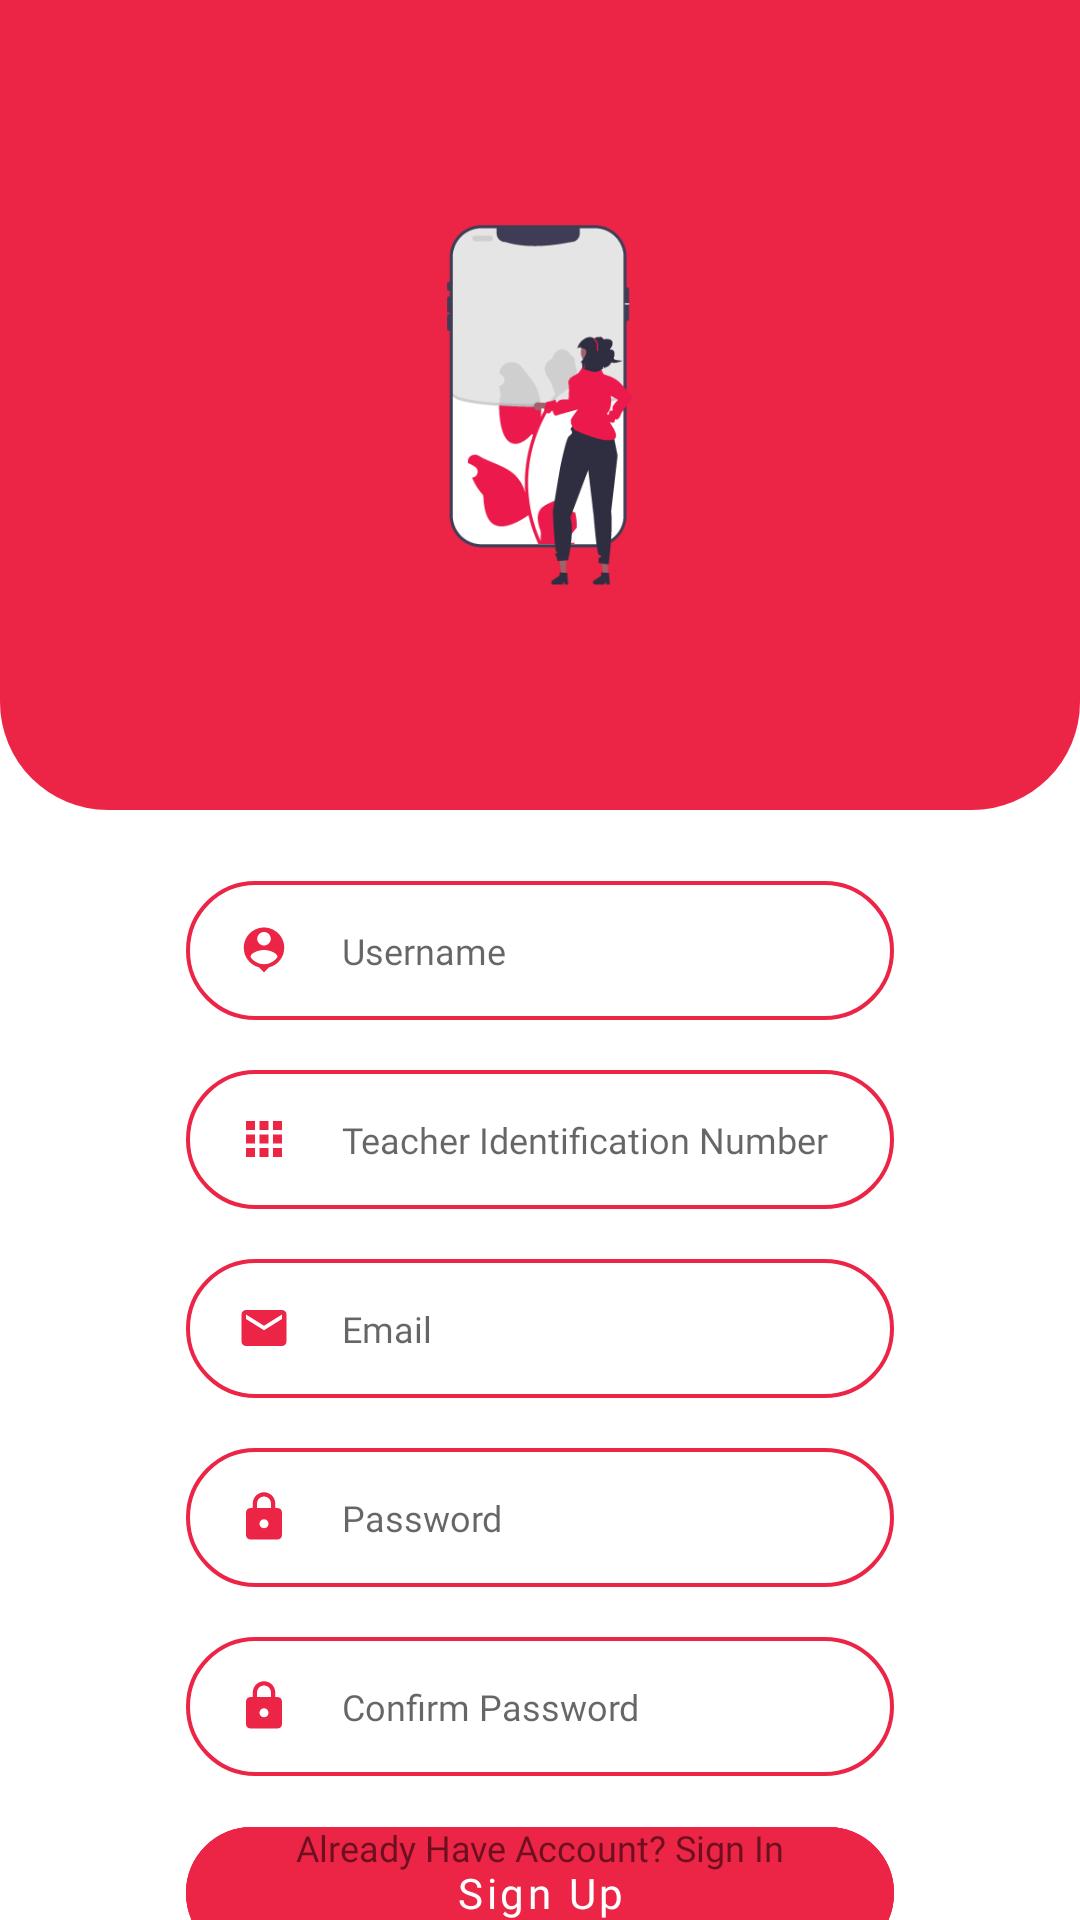

Named icons in this screenshot (1080*1920) and their bounding boxes, (x1, y1, x2, y2):
auth art: (447, 225, 630, 585)
lock: (246, 1492, 282, 1540), (246, 1681, 282, 1729)
